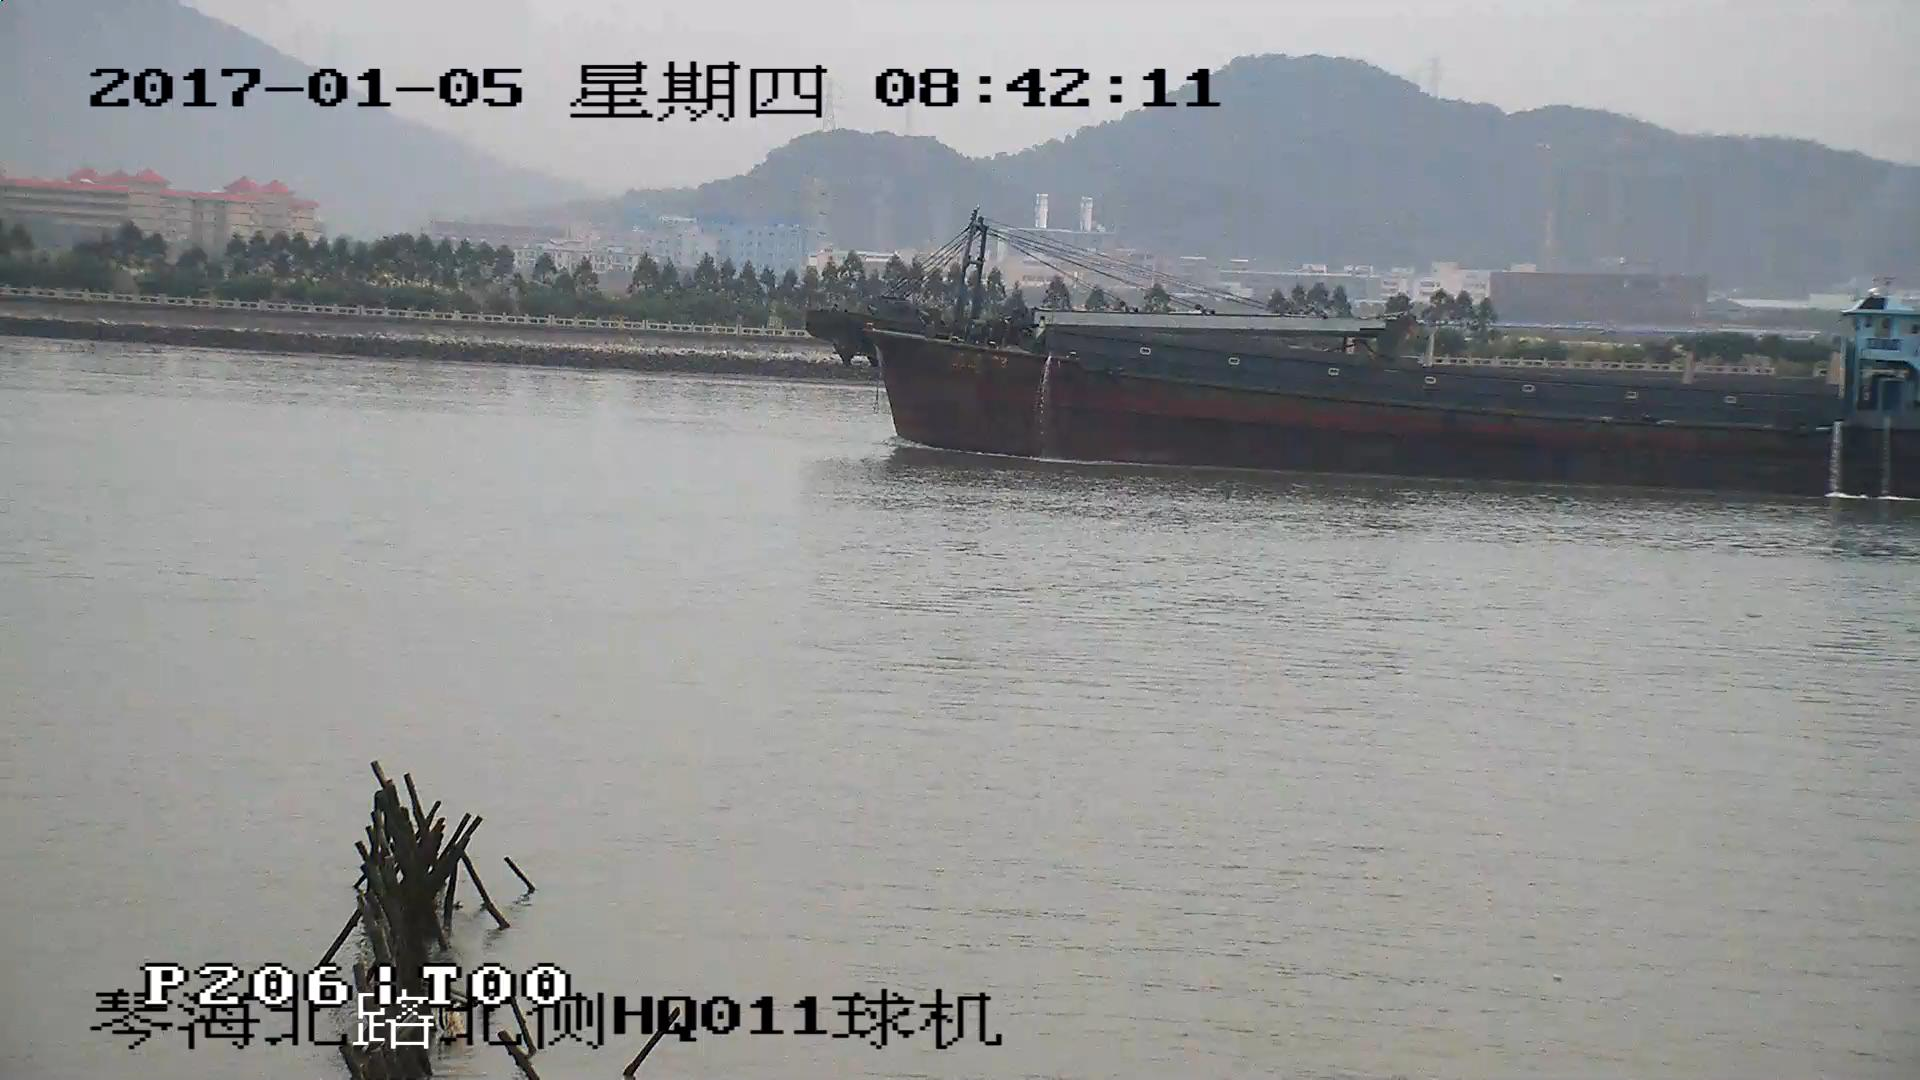bulk cargo carrier: (803, 214, 1920, 501)
